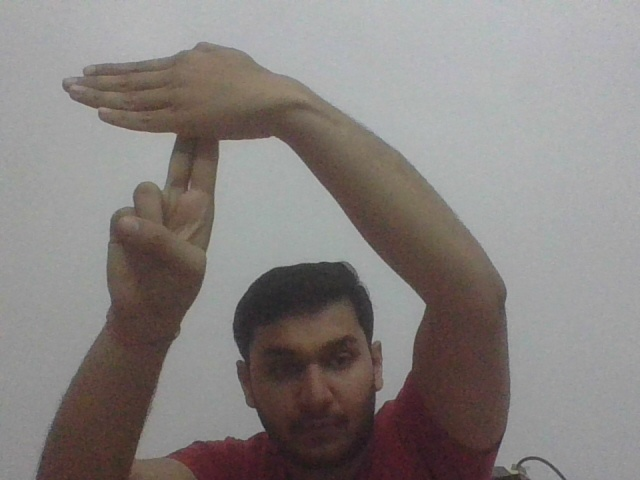N: (61, 36, 276, 193)
